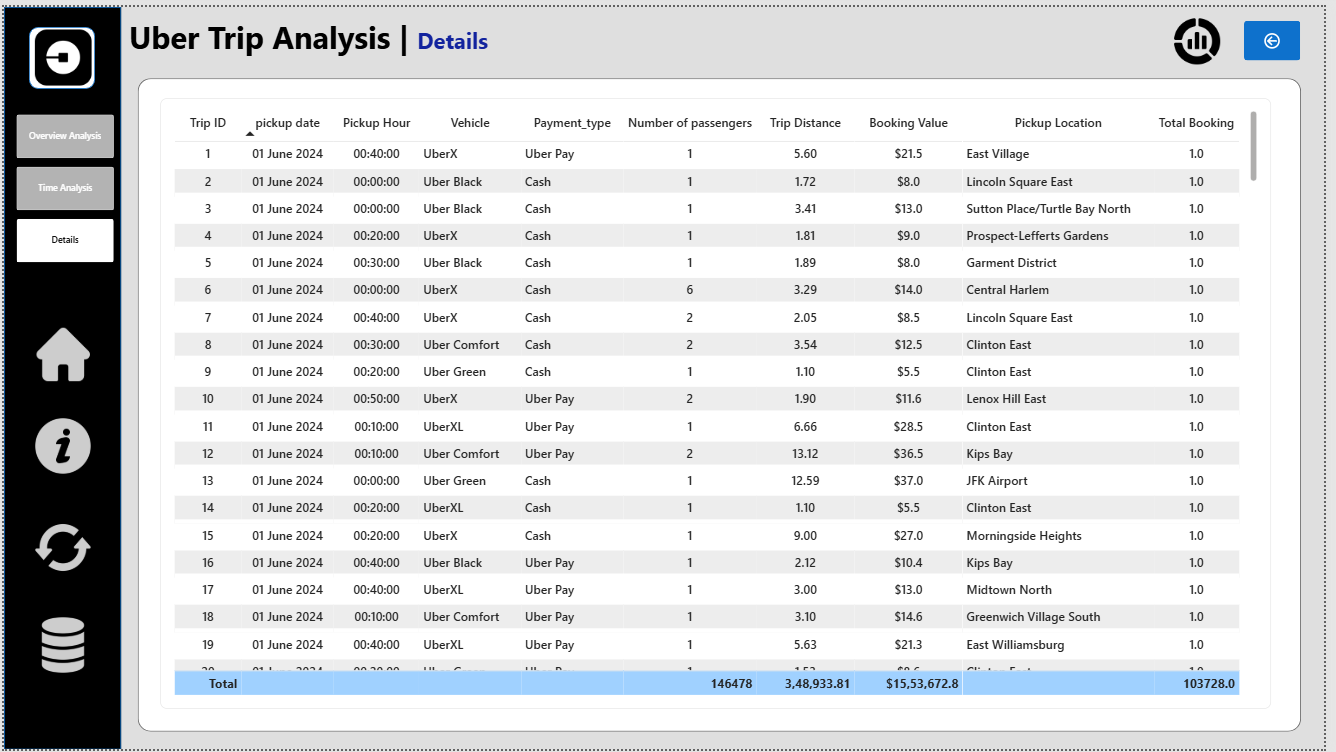

What the dashboard file says about the page in this screenshot:
{"tool":"powerbi","page":{"name":"Details","canvas":[1600,900],"ordinal":2},"visuals":[{"type":"shape","box":[0,0,142,900],"z":0},{"type":"textbox","box":[151.4,10,580,54.3],"z":1000},{"type":"shape","box":[162,86,1410,792],"z":2000},{"type":"tableEx","fields":{"Values":["Trip Details.Trip ID","Trip Details.pickup date","Trip Details.Pickup Hour (HH MM SS) (bins)","Trip Details.Vehicle","Trip Details.Payment_type","Sum(Trip Details.passenger_count)","Measure.Total Trip Distance Measure","Measure.Total Booking Value","Location Table.Location","Measure.Total Booking"]},"box":[190,110,1346.7,740],"z":3000},{"type":"actionButton","box":[1503.3,16.7,68.3,48.3],"z":4000},{"type":"image","box":[1403,13,87,56],"z":5000},{"type":"pageNavigator","box":[15,130,118.3,180],"z":6000},{"type":"group","id":"g1","title":"Group 1","box":[30.3,24.2,80.9,75],"z":7000},{"type":"image","box":[40,386.2,65,70],"z":8000},{"type":"image","box":[37.5,498.8,67.5,67.5],"z":9000},{"type":"image","box":[37.5,615,67.5,80],"z":10000},{"type":"image","box":[37.5,733.8,67.5,80],"z":11000},{"type":"shape","box":[30.3,24.2,80,75],"z":33000,"group":"g1"},{"type":"image","box":[31.2,27.6,80,68.1],"z":34000,"group":"g1"}]}

Visuals, with their boxes on the page's 1600x900 design canvas (x1, y1, x2, y2). These are canvas units, not pixel positions in the 1336x752 screenshot, which may show the page scaled, cropped or inside an application window:
shape: (0,0,142,900)
textbox: (151,10,731,64)
shape: (162,86,1572,878)
tableEx - Trip Details.Trip ID x Trip Details.pickup date: (190,110,1537,850)
actionButton: (1503,17,1572,65)
image: (1403,13,1490,69)
pageNavigator: (15,130,133,310)
"Group 1" group: (30,24,111,99)
image: (40,386,105,456)
image: (38,499,105,566)
image: (38,615,105,695)
image: (38,734,105,814)
shape: (30,24,110,99)
image: (31,28,111,96)
